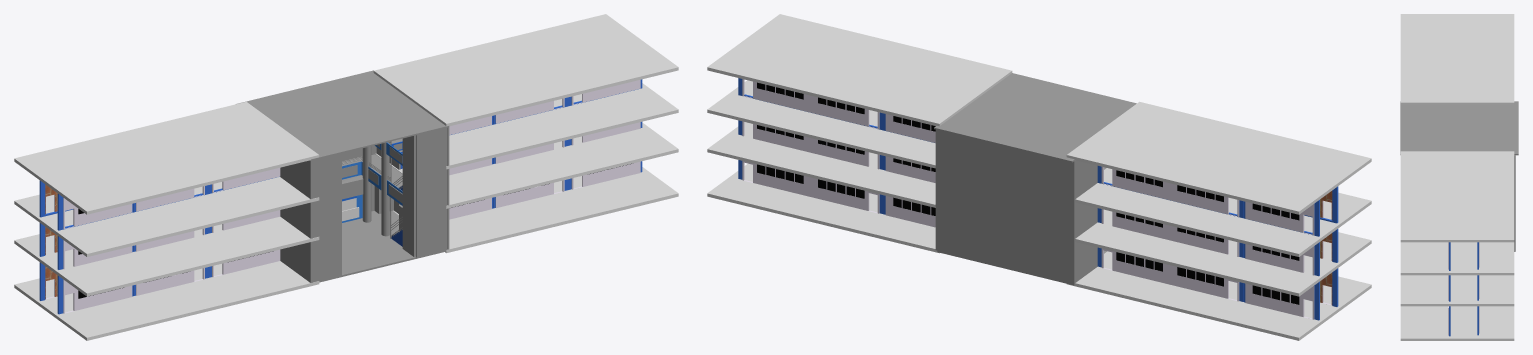
File: unpaz_centro_.fbx
The picture shows the model from 3 angles, left to right: view 1: azimuth 30°, elevation 25°; view 2: azimuth 150°, elevation 25°; view 3: azimuth 270°, elevation 25°; orthographic projection. The views are drawn at different scales.
Visible parts, largest first — view 1: facu, Cube.026, Cube.025, Cube.047, Cube.027, Cube.028, Cube.004, Cube.024, Cube.023, Cube.046, Cube.034, Cube.035 (+13 smaller); view 2: facu, Cube.026, Cube.025, Cube.027, Cube.047, Cube.028, Cube.024, Cube.004, Cube.023, Cube.045, Cube.033, Cube.007 (+15 smaller); view 3: Cube.025, Cube.026, facu, Cube.004, Cube.024, Cube.023.
Part boxes in pixels (<box>): facu: <box>236,70,449,282</box>; Cube.026: <box>14,101,319,214</box>; Cube.025: <box>373,14,678,126</box>; Cube.047: <box>14,261,319,340</box>; Cube.027: <box>14,177,319,256</box>; Cube.028: <box>14,216,319,296</box>; Cube.004: <box>393,167,678,253</box>; Cube.024: <box>446,83,678,169</box>; Cube.023: <box>375,122,678,208</box>; Cube.046: <box>57,275,133,314</box>; Cube.034: <box>57,194,133,229</box>; Cube.035: <box>57,211,133,269</box>; facu: <box>934,73,1136,285</box>; Cube.026: <box>1066,101,1371,214</box>; Cube.025: <box>707,14,1012,126</box>; Cube.027: <box>1075,168,1371,256</box>; Cube.047: <box>1067,251,1371,340</box>; Cube.028: <box>1075,209,1371,296</box>; Cube.024: <box>707,80,935,168</box>; Cube.004: <box>707,163,939,253</box>; Cube.023: <box>707,122,935,207</box>; Cube.045: <box>1244,281,1319,320</box>; Cube.033: <box>1244,200,1319,235</box>; Cube.007: <box>810,177,884,214</box>; Cube.025: <box>1400,151,1514,242</box>; Cube.026: <box>1400,14,1514,104</box>; facu: <box>1400,101,1518,251</box>; Cube.004: <box>1400,306,1514,340</box>; Cube.024: <box>1400,242,1514,275</box>; Cube.023: <box>1400,275,1514,306</box>.
Bounding box in the file's own units: 1384 × 289 × 306.
Materials: 192 (36 with a texture image).
